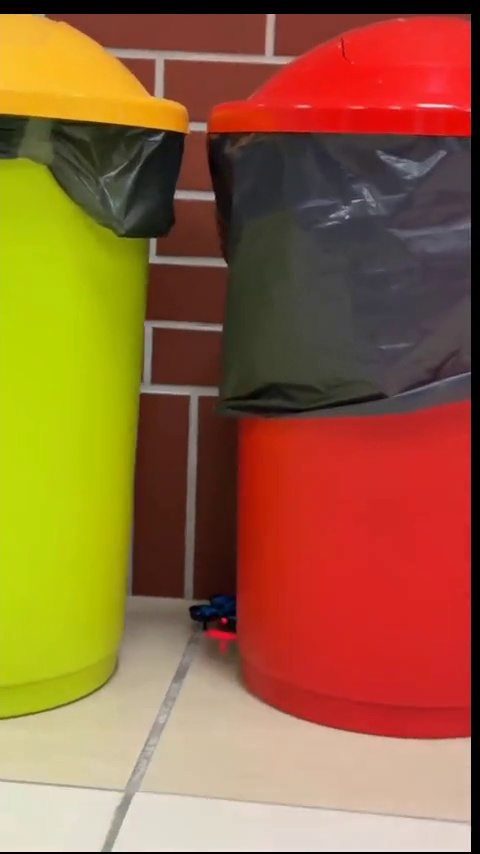drone: (190, 591, 235, 637)
